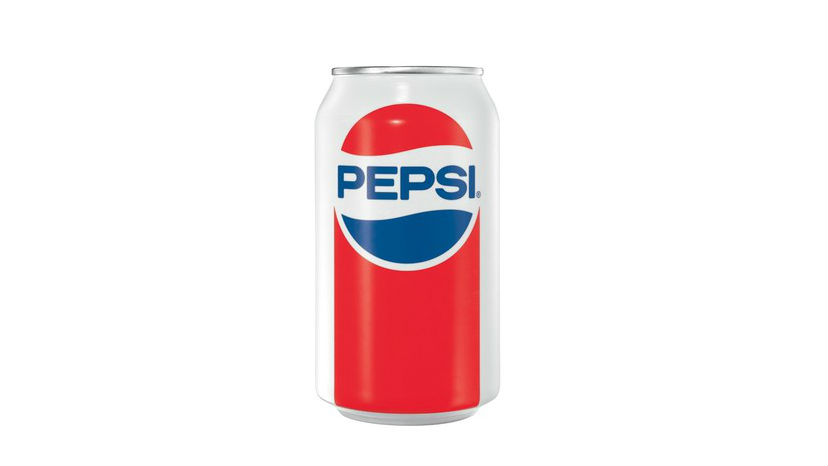pepsi: (333, 105, 477, 261)
